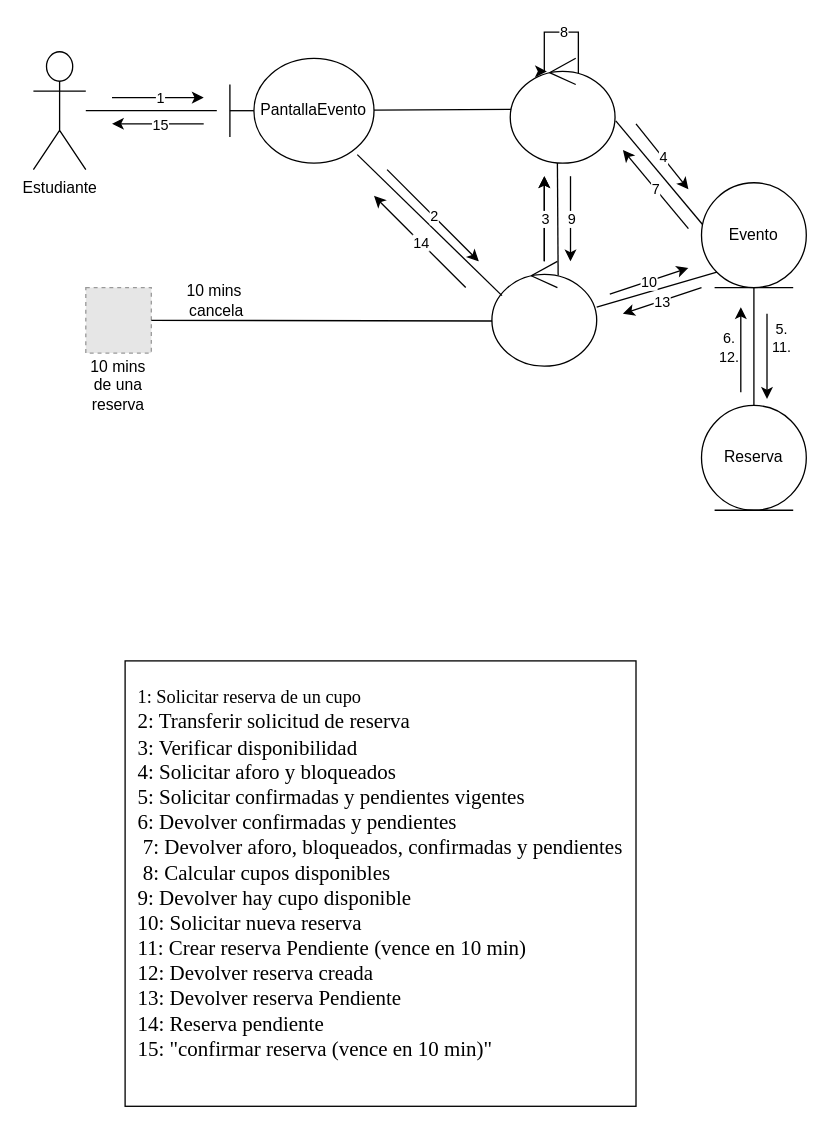
This 829x1129 diagram has some shape labels left out. Grey dashed boxes stand in for pictures. The shapes that lost their labels are listed below. From the top down, each one's box as (x1, y1, x2, y2) in pixels, then its label:
(509, 57, 615, 163): CalculoDisp Cupos
(491, 260, 597, 366): Gestión Reserva
